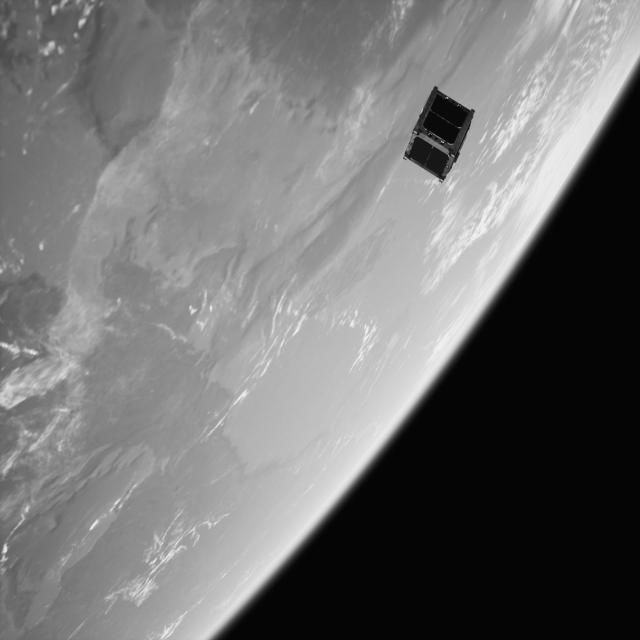medium_debris: (398, 81, 478, 180)
